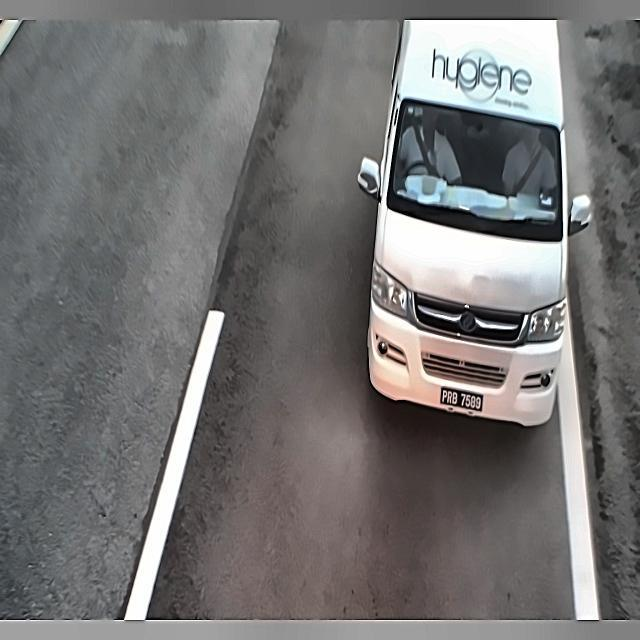car: (438, 382, 492, 422)
